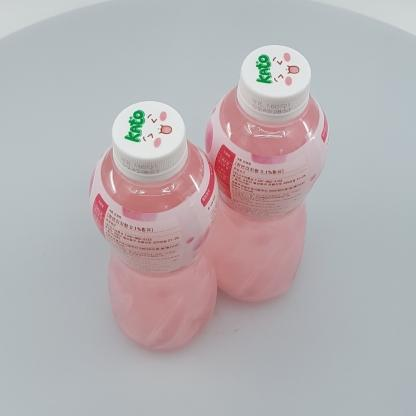-----------: (87, 101, 220, 351), (203, 44, 330, 302)
